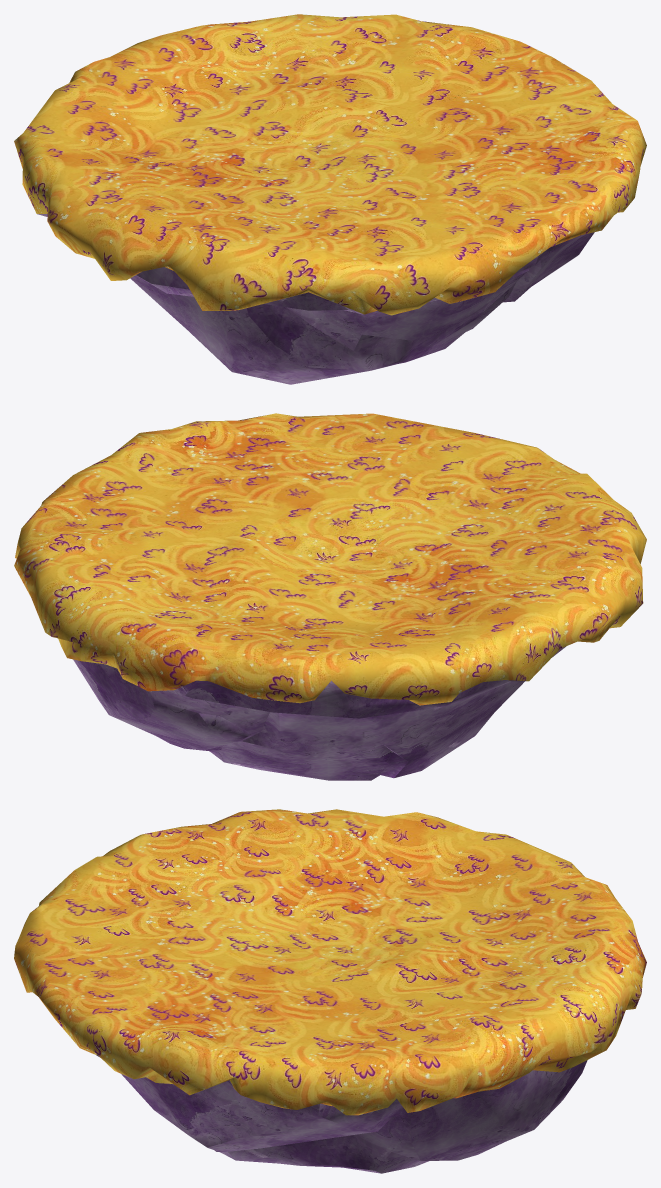
File: entity42920.gltf
3 renders of one model, top to bottom at view 1: azimuth 30°, elevation 25°; view 2: azimuth 150°, elevation 25°; view 3: azimuth 270°, elevation 25°, orthographic.
Parts seen in each view (by area): view 1: node_mesh_floating_island_012; view 2: node_mesh_floating_island_012; view 3: node_mesh_floating_island_012.
Boxes of the visible parts, left/top/right/bottom form: node_mesh_floating_island_012: left=14, top=14, right=646, bottom=384; node_mesh_floating_island_012: left=14, top=413, right=646, bottom=780; node_mesh_floating_island_012: left=14, top=809, right=646, bottom=1173.
Bounding box in the file's own units: 1479 × 560 × 1464.
2 materials, 2 textured.
